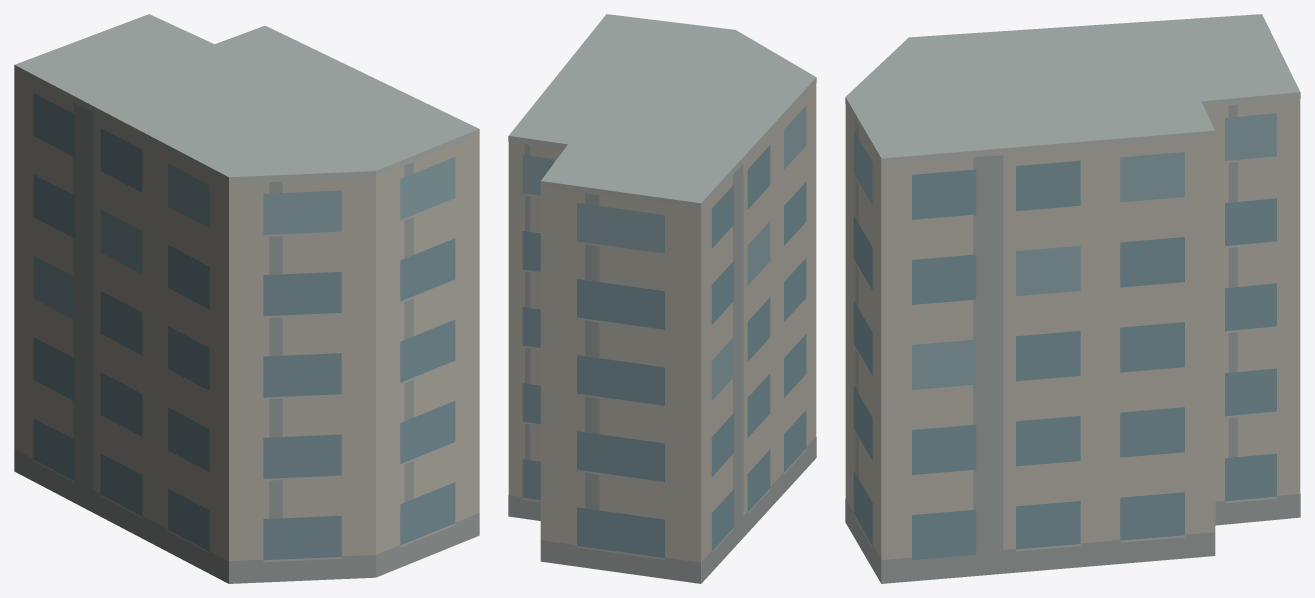
File: residential-570d0528-8273-409e-8565-8cc752f9a3fd.glb
The picture shows the model from 3 angles, left to right: view 1: azimuth 30°, elevation 25°; view 2: azimuth 150°, elevation 25°; view 3: azimuth 270°, elevation 25°; orthographic projection. The views are drawn at different scales.
Parts seen in each view (by area): view 1: residential-570d0528-8273-409e-8565-8cc752f9a3fd.tmp; view 2: residential-570d0528-8273-409e-8565-8cc752f9a3fd.tmp; view 3: residential-570d0528-8273-409e-8565-8cc752f9a3fd.tmp.
Boxes of the visible parts, x1,y1,x2,y2 form: residential-570d0528-8273-409e-8565-8cc752f9a3fd.tmp: (14, 14, 479, 583); residential-570d0528-8273-409e-8565-8cc752f9a3fd.tmp: (508, 14, 816, 583); residential-570d0528-8273-409e-8565-8cc752f9a3fd.tmp: (845, 14, 1300, 583).
Size of the model in its own units: 11.12 by 15.25 by 14.79.
